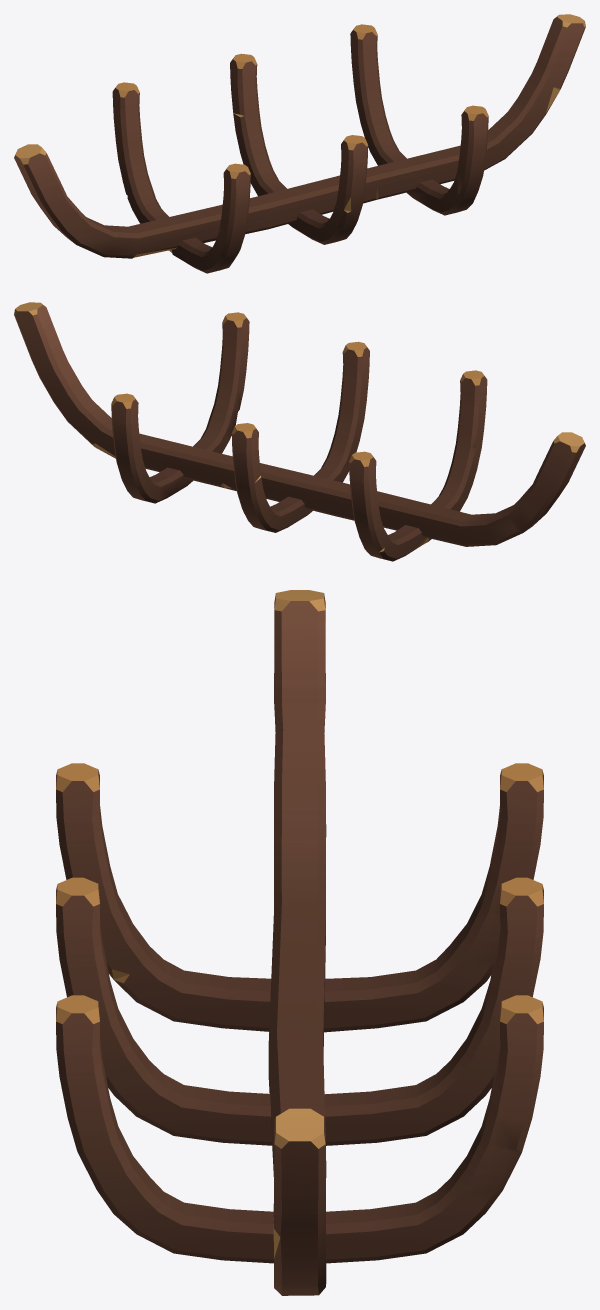
The model's file is BoatFrame_C.glb.
The picture shows the model from 3 angles, top to bottom: view 1: azimuth 30°, elevation 25°; view 2: azimuth 150°, elevation 25°; view 3: azimuth 270°, elevation 25°; orthographic projection. The views are drawn at different scales.
Parts seen in each view (by area): view 1: BoatFrame_C; view 2: BoatFrame_C; view 3: BoatFrame_C.
Part boxes in pixels (x1,y1,x2,y2): BoatFrame_C: (14,14,585,273); BoatFrame_C: (14,302,585,561); BoatFrame_C: (56,590,543,1295).
Size of the model in its own units: 6.03 by 1.47 by 2.26.
Materials: 1 (1 with a texture image).
